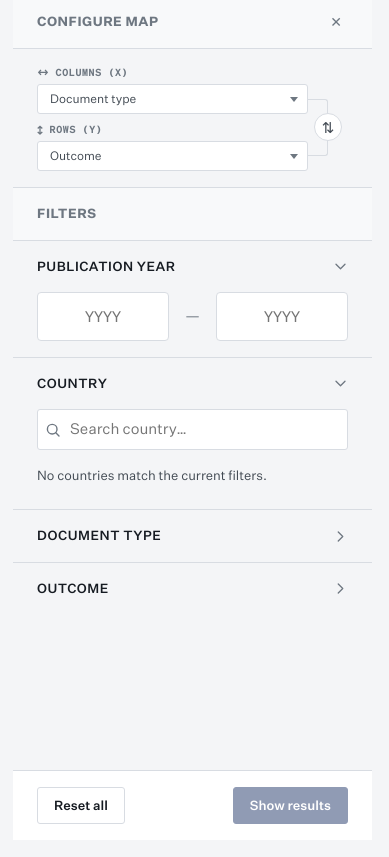
Test case: MapConfigPanel › Swap axes swaps the axes
The image size is (389, 857).
Expected: the dropdown labelled "Rows (y)" shows "Outcome", [37,141,308,171]
Click the button named "Swap axes" at (328, 127), box [314,113,342,141]
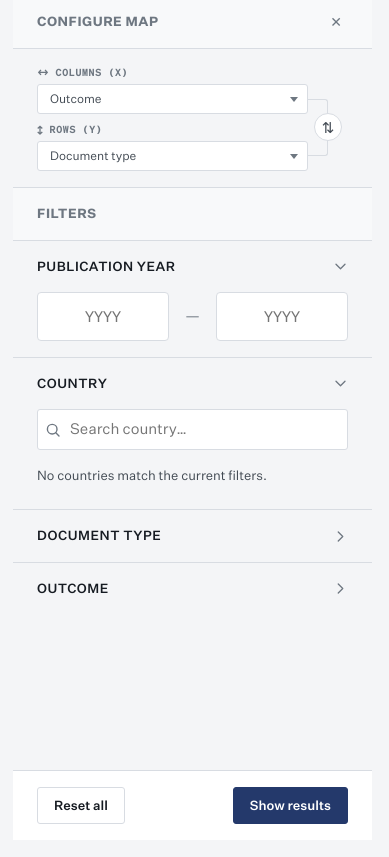
Now the dropdown labelled "Rows (y)" shows "Document type", box [37,141,308,171]
Now the dropdown labelled "Columns (x)" shows "Outcome", box [37,84,308,114]
